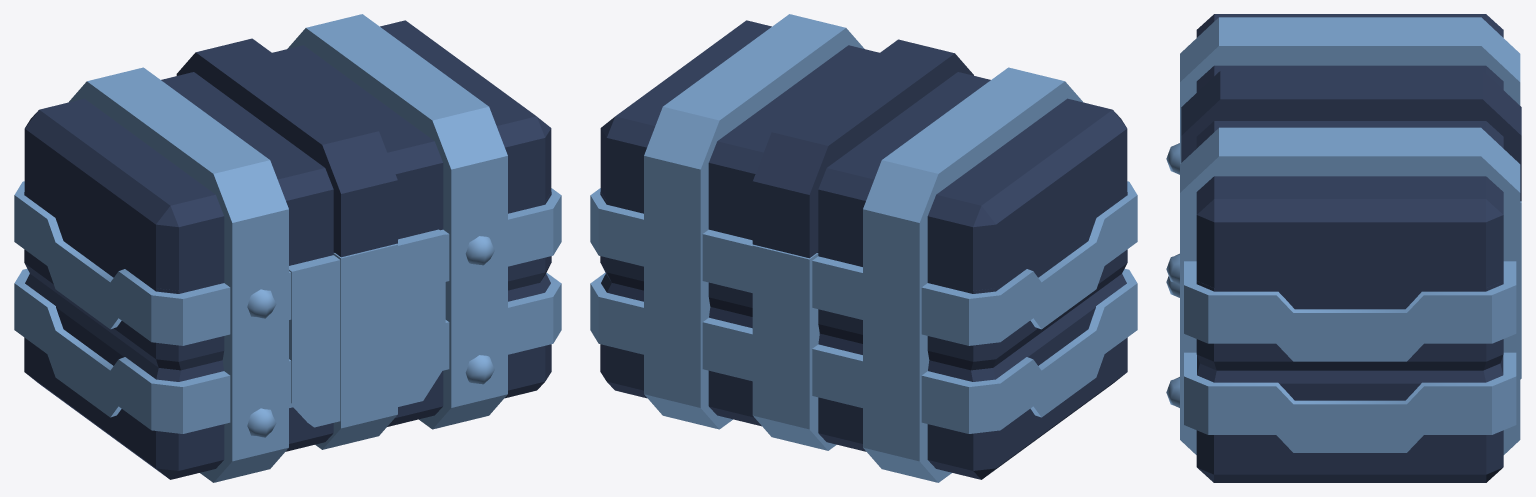
Rendered from lootbox.fbx.
3 renders of one model, left to right at view 1: azimuth 30°, elevation 25°; view 2: azimuth 150°, elevation 25°; view 3: azimuth 270°, elevation 25°, orthographic. The views are drawn at different scales.
Parts seen in each view (by area): view 1: chest_base, chest_top; view 2: chest_base, chest_top; view 3: chest_top, chest_base.
Boxes of the visible parts, box(x1,y1,x2,y2) form: chest_base: box(14, 181, 561, 482); chest_top: box(24, 14, 551, 290); chest_base: box(590, 181, 1137, 482); chest_top: box(600, 14, 1127, 290); chest_top: box(1180, 14, 1521, 288); chest_base: box(1166, 143, 1521, 482).
Size of the model in its own units: 31.97 by 23.15 by 23.17.
